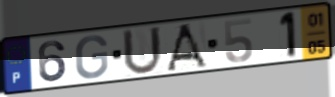1: (277, 9, 298, 60)
5: (221, 16, 254, 64)
6: (37, 40, 69, 84)
A: (165, 22, 210, 72)
G: (74, 34, 110, 81)
U: (121, 25, 165, 78)
